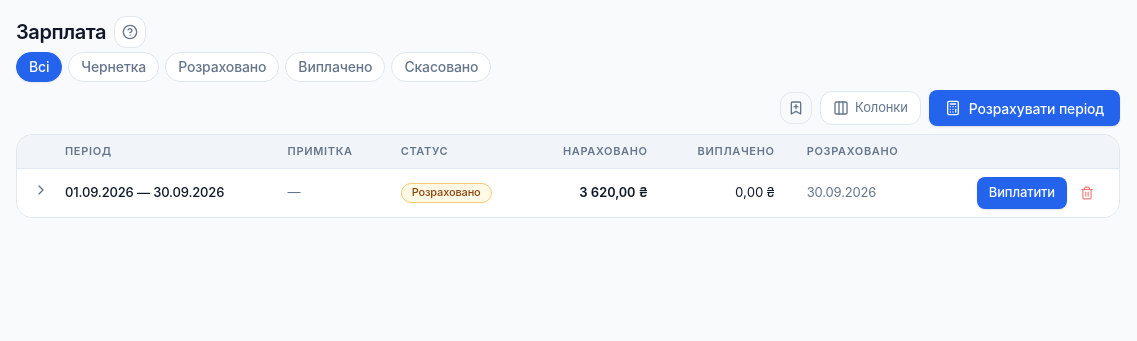
Test: Payroll — розшифровка по нарядах (drill-down) › старий період (workOrders=[]) → breakdown.empty, без спінера/краху
This screenshot has width=1137, height=341.
Click the button named "Розгорнути".
click(41, 190)  # box [33, 182, 49, 198]
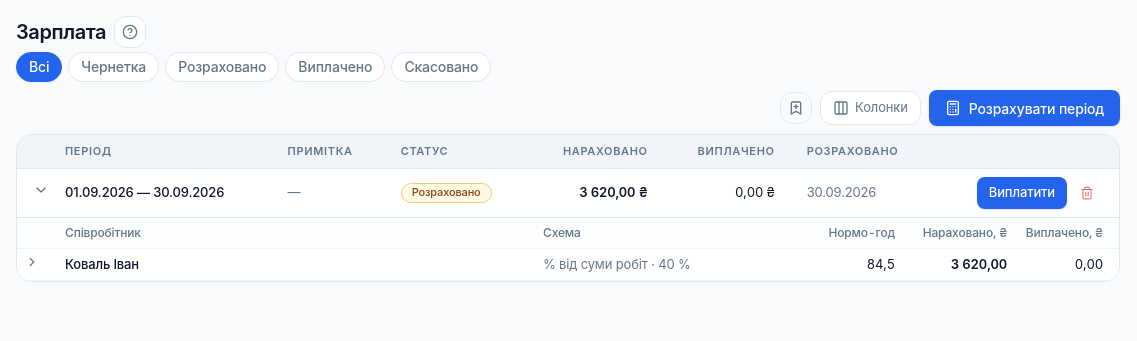
Click the button named "Показати наряди".
click(32, 262)  # box [25, 254, 39, 268]
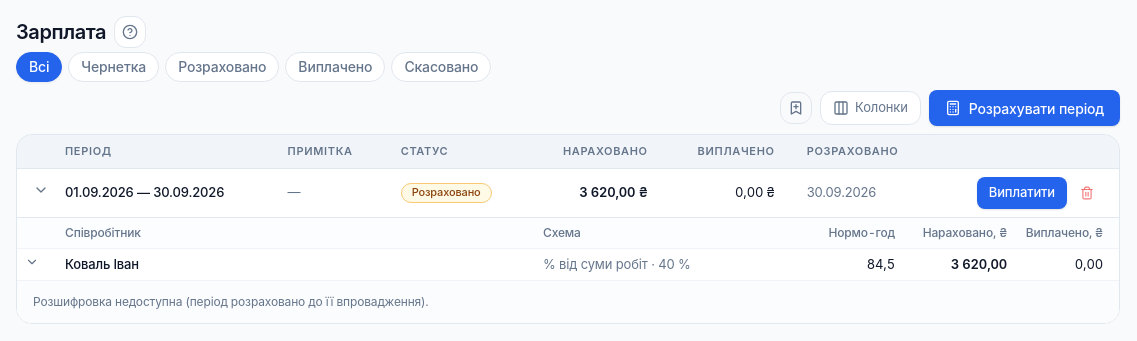
Now the text "Розшифровка недоступна (період розраховано до її впровадження)." is shown, box [33, 294, 429, 309]
